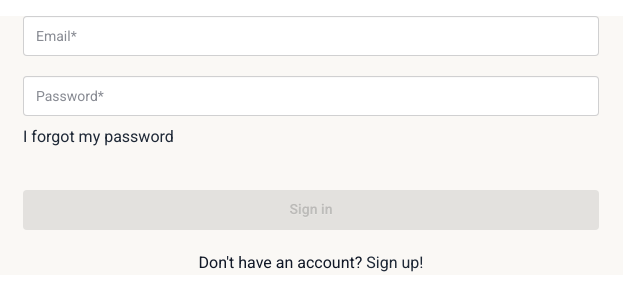
Scenario: SignInForm › Test 5: Validate the loading state during the login process.
The image size is (623, 289).
Type "alice@example.com" into the field with placeholder "Email*".
click(311, 36); type("alice@example.com")  # box [23,16,599,56]
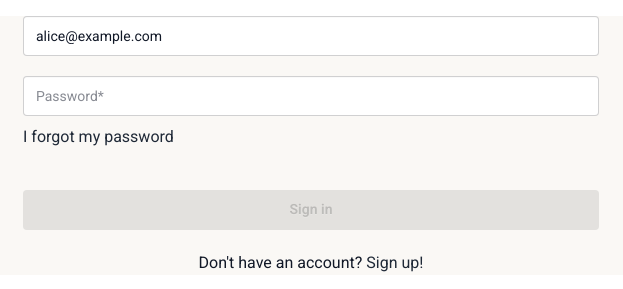
Type "password123" into the password field with placeholder "Password*".
click(311, 96); type("password123")  # box [23,76,599,116]
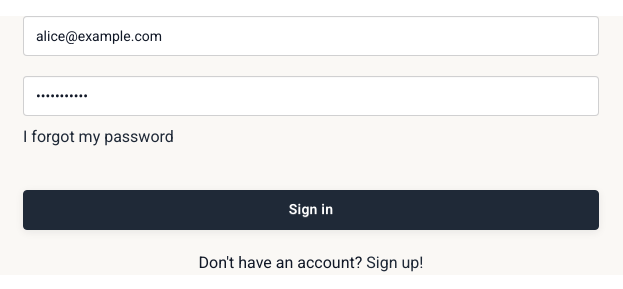
Click the button "Sign in".
click(311, 210)  # box [23,190,599,230]
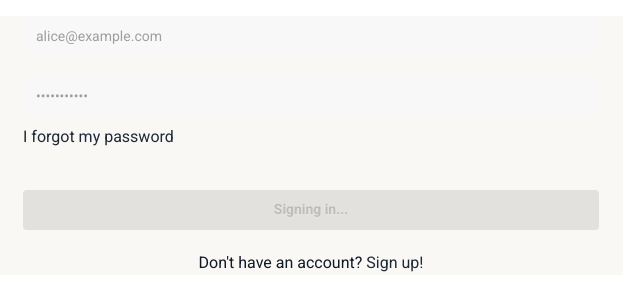
Now the button is disabled, box [23,190,599,230]
